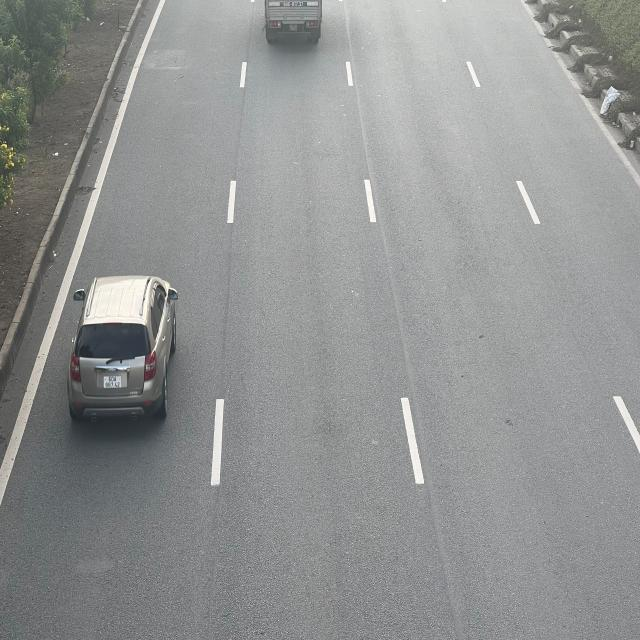car: (70, 274, 180, 424)
truck: (260, 0, 324, 42)
